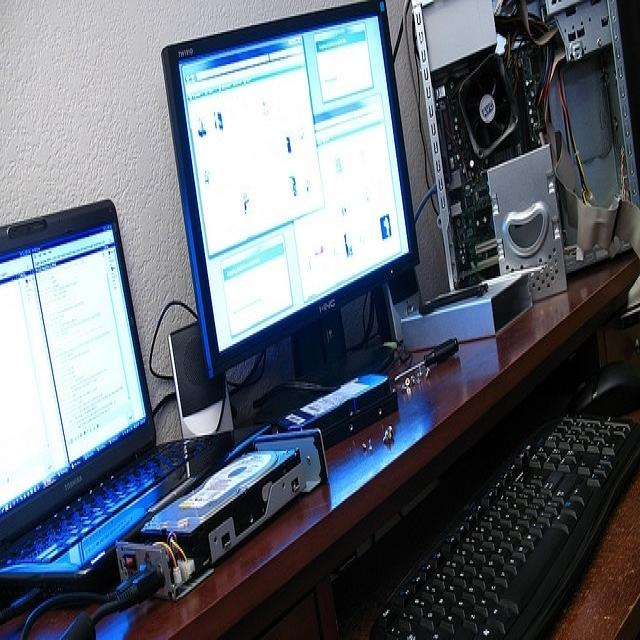E-waste: (0, 23, 639, 594)
